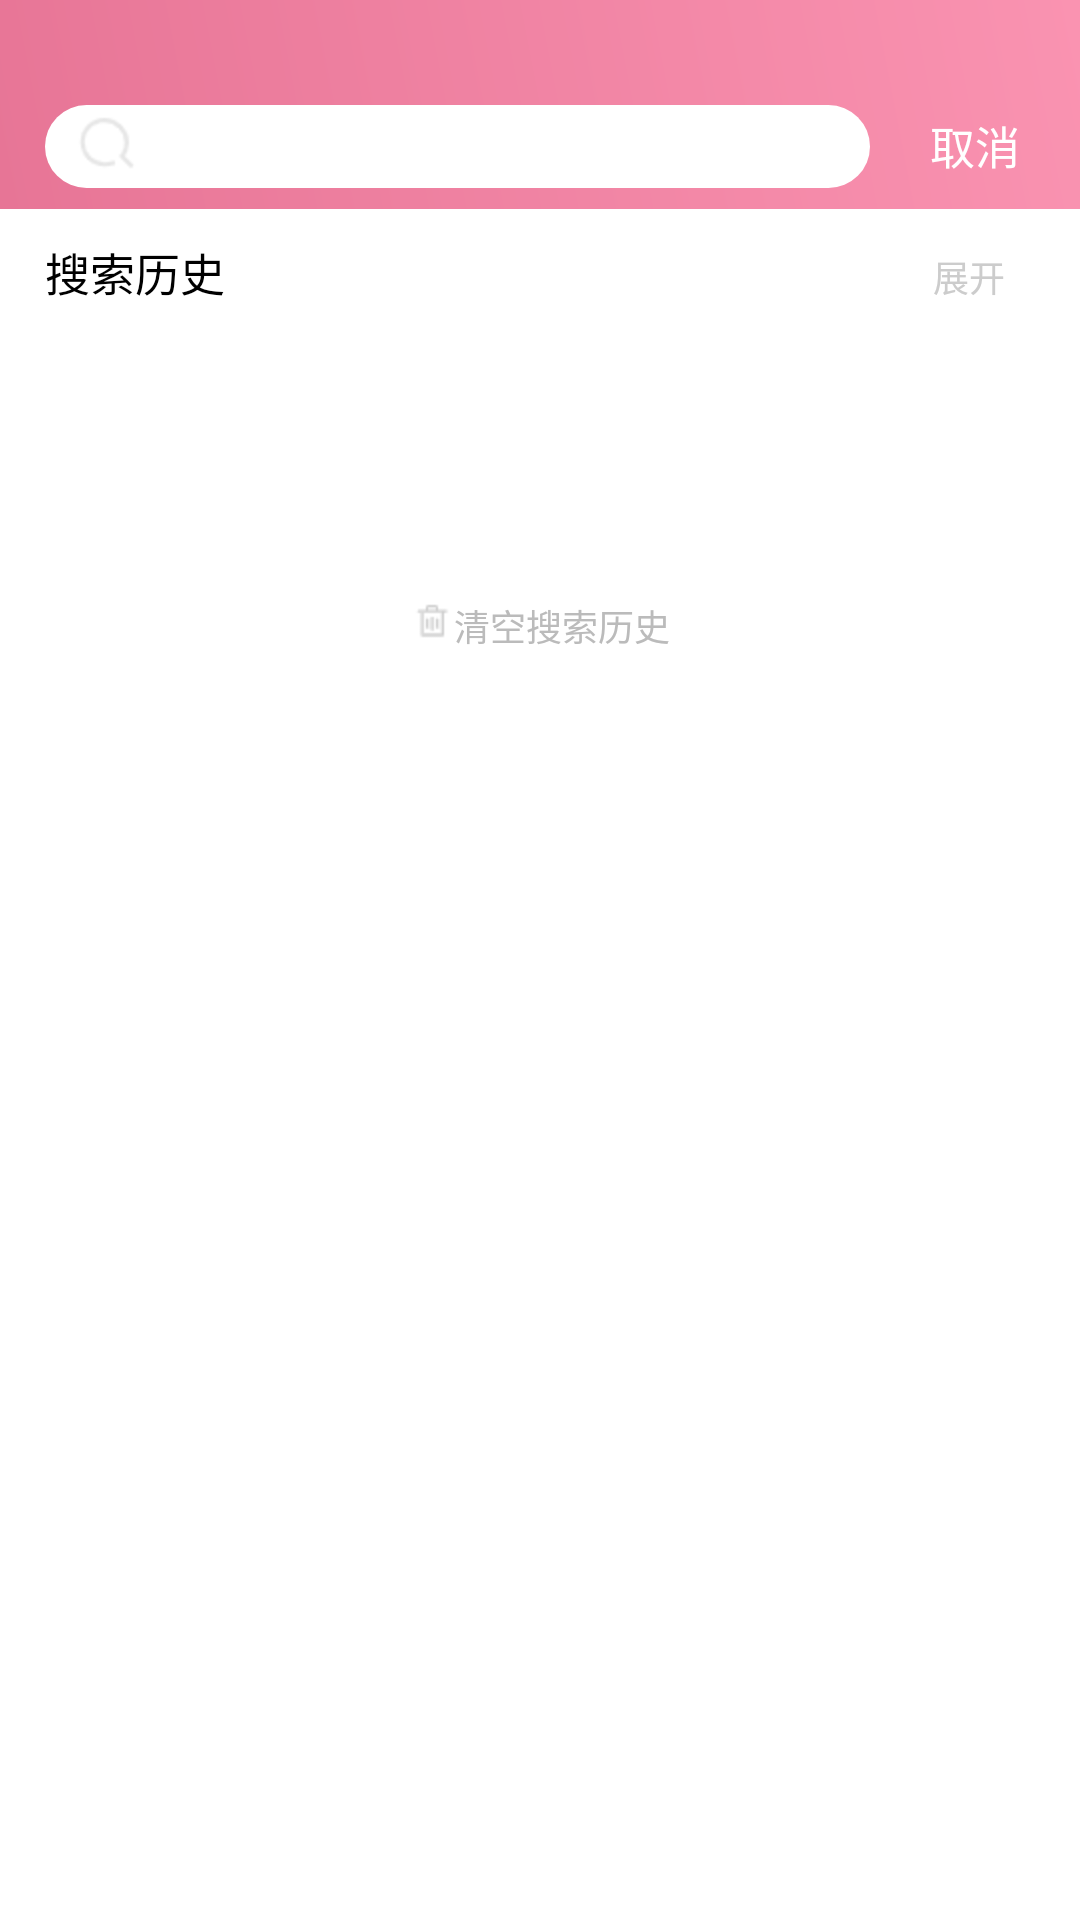

Screen size 1080*1920. Icon name, then its center in pixels as (x=x, y=y):
dustbin: (x=432, y=621)
